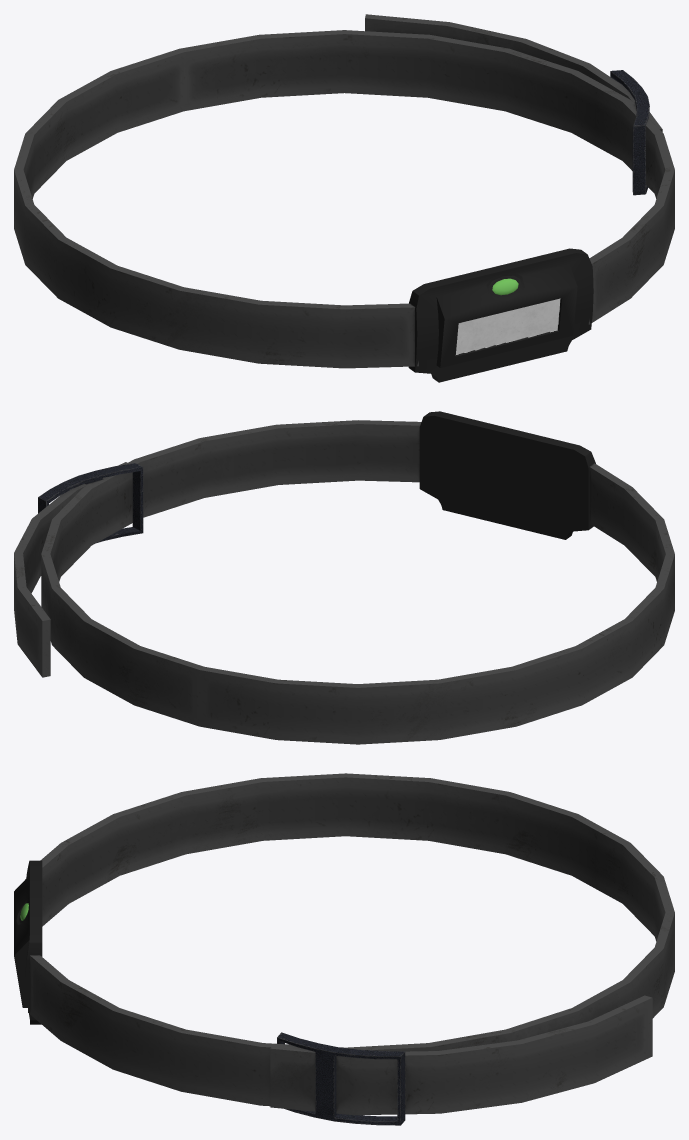
File: linterna.fbx
3 views of the same model, one above another, from view 1: azimuth 30°, elevation 25°; view 2: azimuth 150°, elevation 25°; view 3: azimuth 270°, elevation 25° (orthographic). The views are drawn at different scales.
Parts seen in each view (by area): view 1: Cylinder002; view 2: Cylinder002; view 3: Cylinder002.
Part boxes in pixels (bbox=[...]): Cylinder002: bbox=[14, 14, 674, 382]; Cylinder002: bbox=[14, 411, 674, 744]; Cylinder002: bbox=[14, 773, 674, 1125].
Bounding box in the file's own units: 1254 × 195 × 1217.
1 material, 1 textured.
